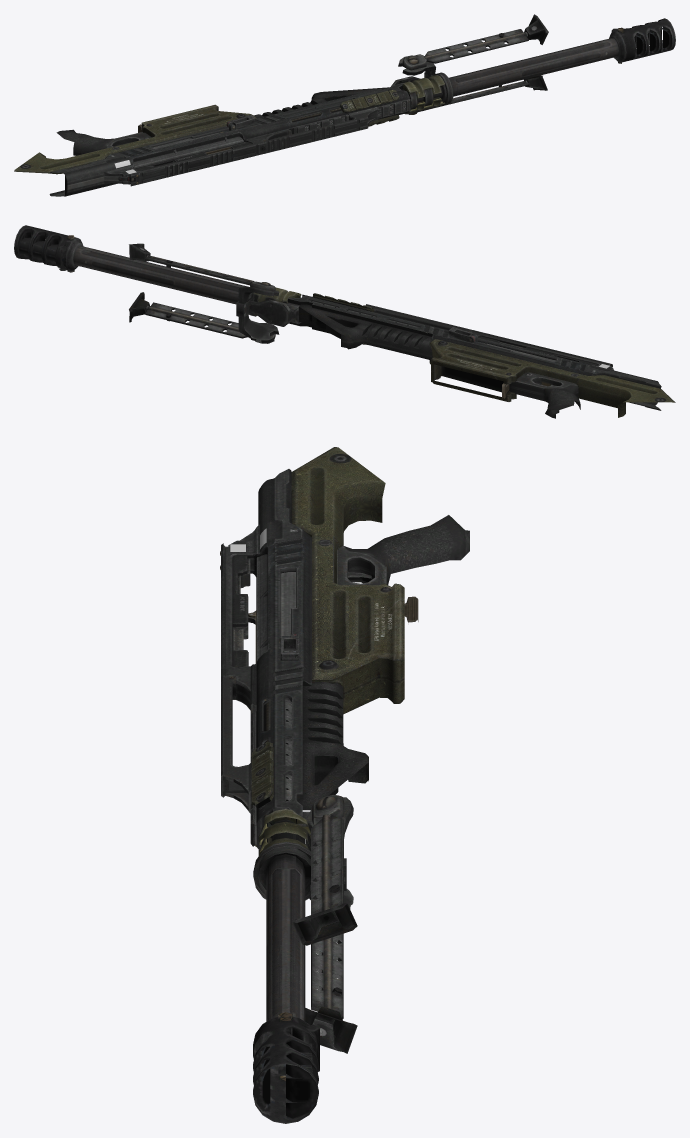
File: t6_wpn_sniper_xpr50_view_LOD0.obj
The picture shows the model from 3 angles, top to bottom: view 1: azimuth 30°, elevation 25°; view 2: azimuth 150°, elevation 25°; view 3: azimuth 270°, elevation 25°; orthographic projection. The views are drawn at different scales.
Parts seen in each view (by area): view 1: mtl_t6_wpn_sniper_xpr50_camo2, mtl_t6_wpn_sniper_xpr50; view 2: mtl_t6_wpn_sniper_xpr50_camo2, mtl_t6_wpn_sniper_xpr50; view 3: mtl_t6_wpn_sniper_xpr50_camo2, mtl_t6_wpn_sniper_xpr50.
Part boxes in pixels (x1,y1,x2,y2): mtl_t6_wpn_sniper_xpr50_camo2: (14, 14, 618, 184); mtl_t6_wpn_sniper_xpr50: (49, 18, 675, 196); mtl_t6_wpn_sniper_xpr50_camo2: (73, 243, 675, 418); mtl_t6_wpn_sniper_xpr50: (14, 225, 661, 410); mtl_t6_wpn_sniper_xpr50_camo2: (220, 447, 469, 1053); mtl_t6_wpn_sniper_xpr50: (221, 469, 418, 1123).
Size of the model in its own units: 129 by 14.42 by 21.7.
